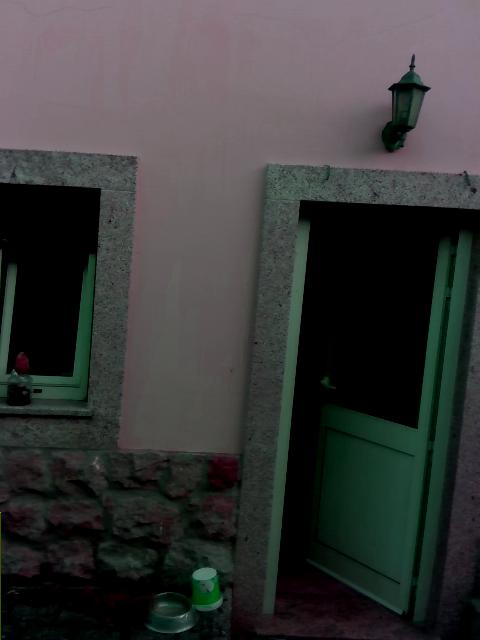semi_door: (263, 199, 479, 622)
